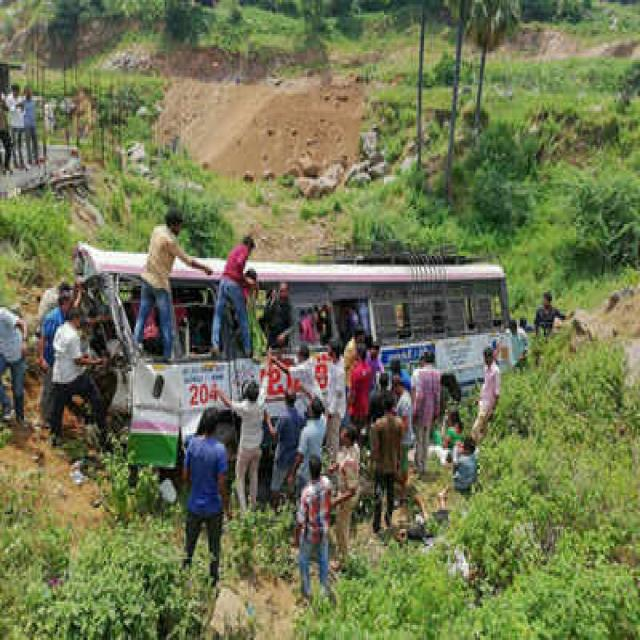accident: (52, 212, 528, 581)
